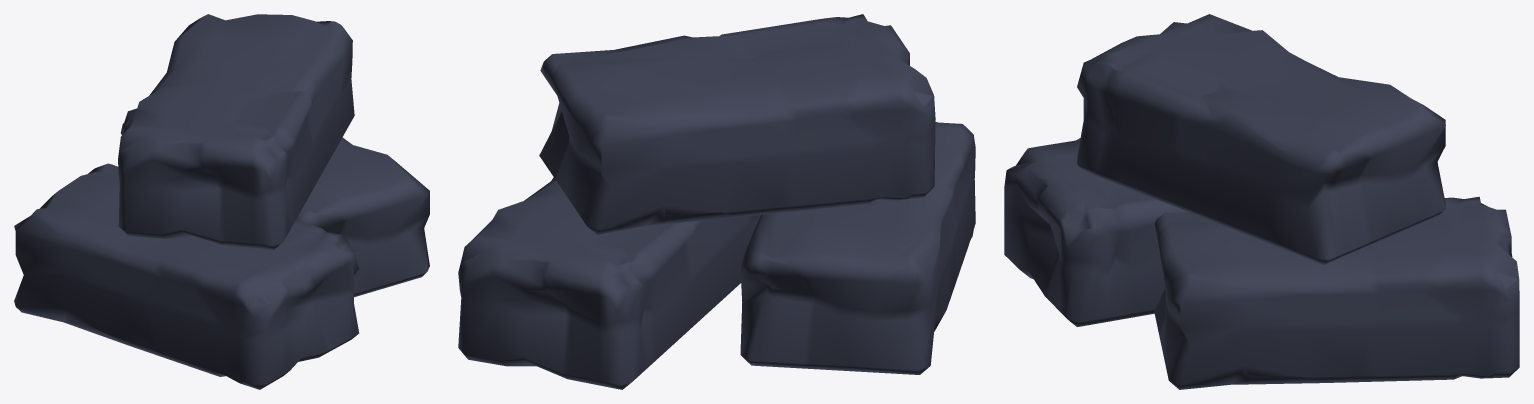
File: brokenBrick_tripleStack_model.fbx
3 views of the same model, side by side, from view 1: azimuth 30°, elevation 25°; view 2: azimuth 150°, elevation 25°; view 3: azimuth 270°, elevation 25° (orthographic). The views are drawn at different scales.
Visible parts, largest first — view 1: brickTripleGroup_geo; view 2: brickTripleGroup_geo; view 3: brickTripleGroup_geo.
Boxes of the visible parts, left/top/right/bottom form: brickTripleGroup_geo: left=14, top=14, right=429, bottom=389; brickTripleGroup_geo: left=458, top=14, right=975, bottom=389; brickTripleGroup_geo: left=1004, top=14, right=1519, bottom=389.
Bounding box in the file's own units: 39.54 × 45.49 × 22.7.
